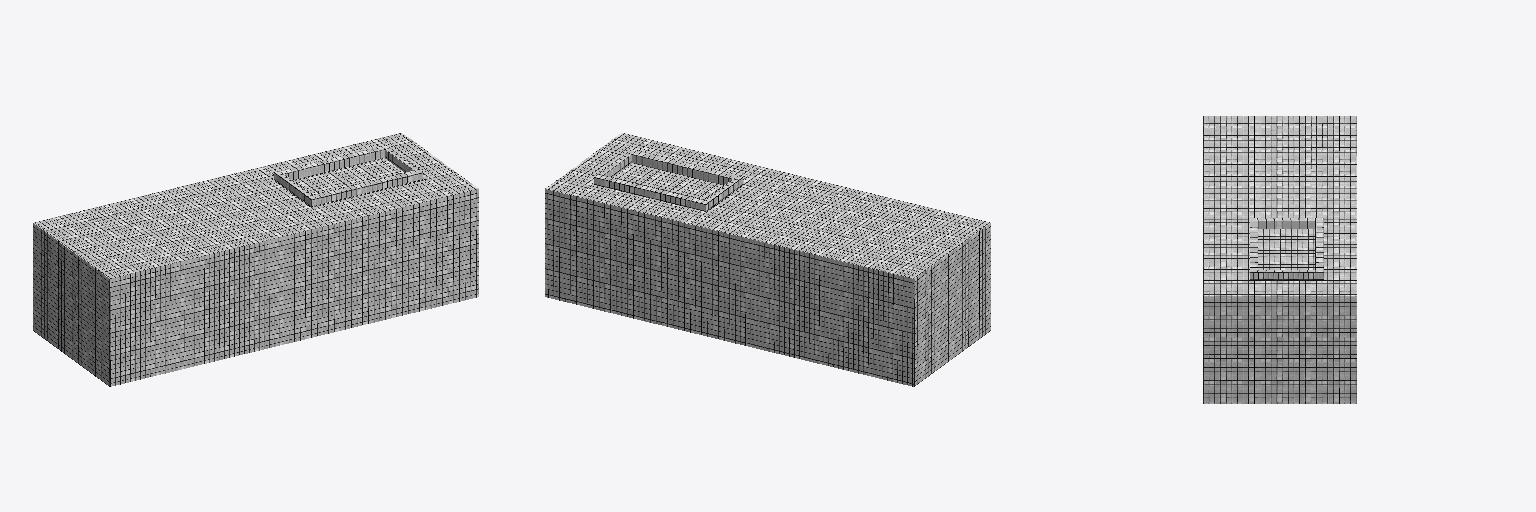
The picture shows the model from 3 angles: view 1: azimuth 30°, elevation 25°; view 2: azimuth 150°, elevation 25°; view 3: azimuth 270°, elevation 25°; orthographic projection.
Parts seen in each view (by area): view 1: pnbmk_box.002_Cube.018; view 2: pnbmk_box.002_Cube.018; view 3: pnbmk_box.002_Cube.018.
Boxes of the visible parts, x1,y1,x2,y2 form: pnbmk_box.002_Cube.018: [33, 133, 478, 386]; pnbmk_box.002_Cube.018: [545, 133, 990, 386]; pnbmk_box.002_Cube.018: [1203, 116, 1356, 403].
Bounding box in the file's own units: 2.07 × 0.619 × 0.7473.
1 materials, 1 textured.